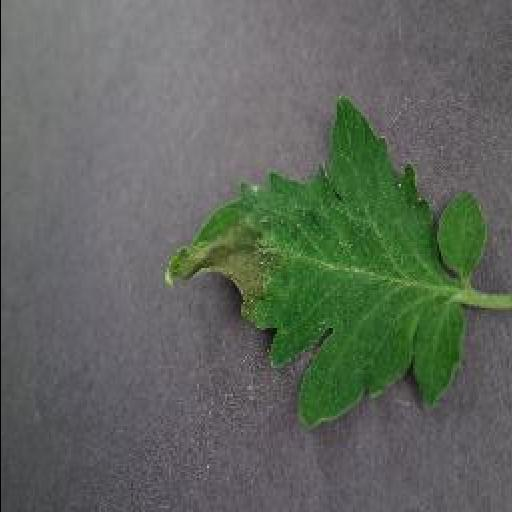disease_tomato: (158, 100, 488, 426)
